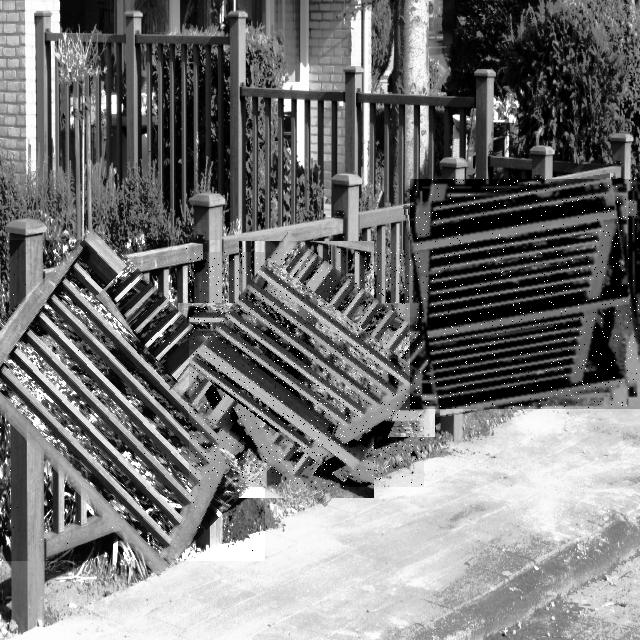fences: (0, 240, 265, 561), (189, 252, 424, 487), (410, 179, 640, 409)
